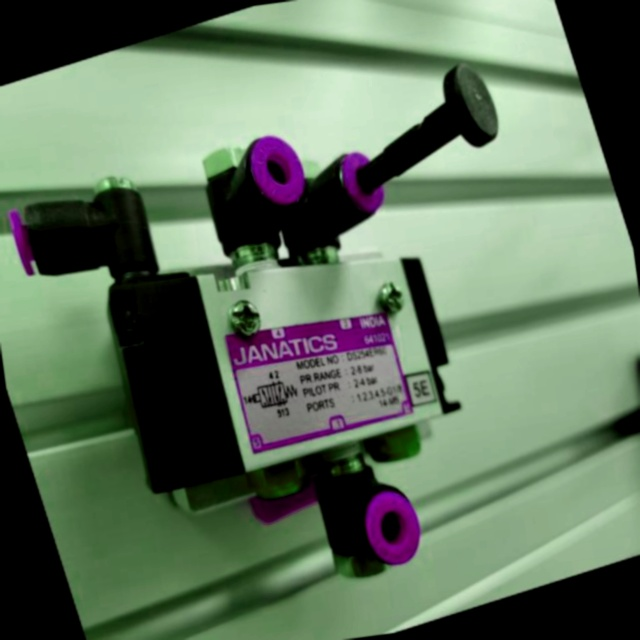5by2 DCV: (0, 24, 640, 640)
